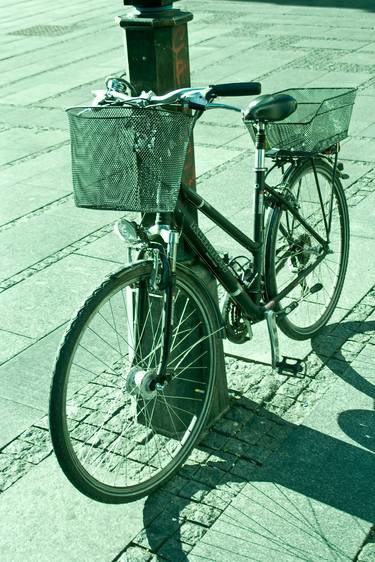bicycle: (46, 66, 360, 507)
